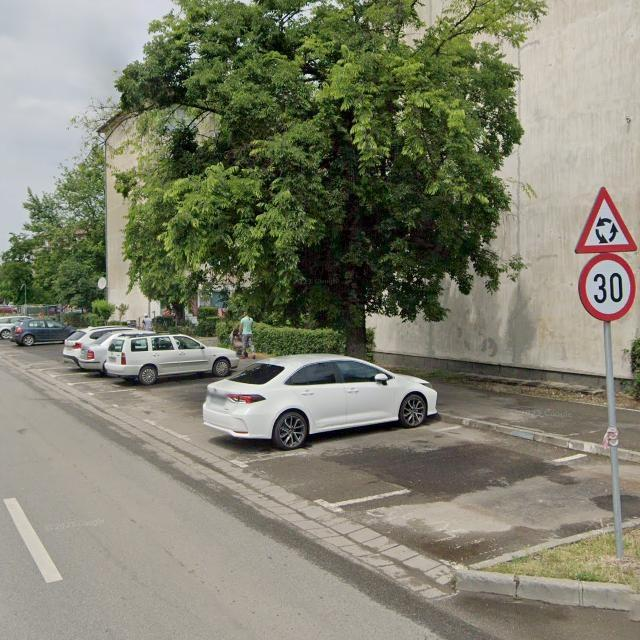forb_speed_over_30: (579, 253, 636, 320)
